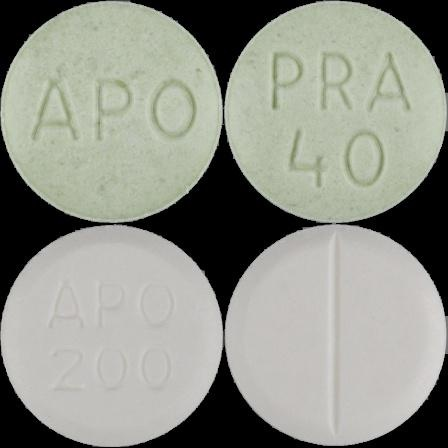60505-0170: (0, 0, 224, 224)
